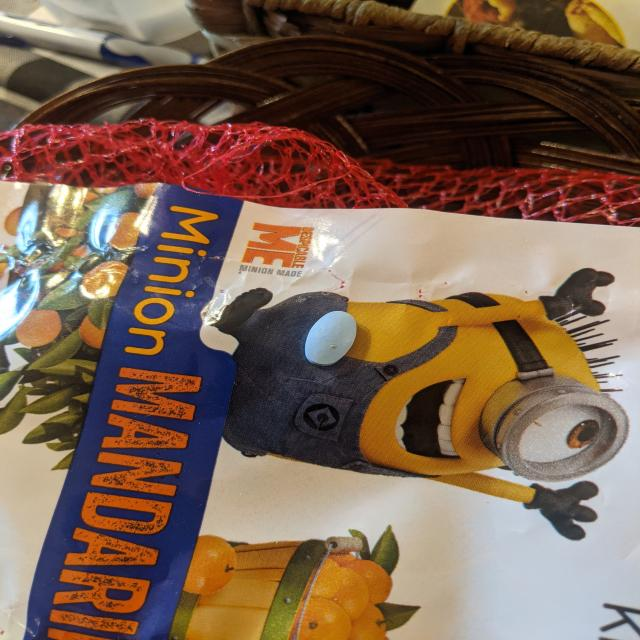non-organic waste: (304, 310, 358, 367)
